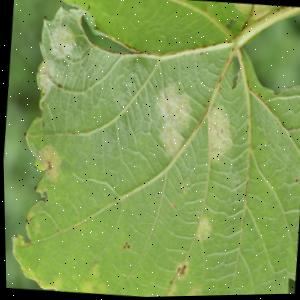Folha: (0, 0, 300, 300)
Fungo: (151, 80, 194, 132), (202, 102, 235, 166), (30, 140, 62, 184), (46, 22, 75, 58), (154, 126, 186, 158), (78, 260, 106, 295), (35, 61, 57, 92), (194, 215, 212, 242), (183, 284, 200, 297), (22, 207, 33, 226), (8, 229, 20, 246), (50, 274, 61, 291), (177, 264, 185, 279), (73, 220, 83, 231), (120, 239, 129, 249), (24, 212, 30, 224), (44, 160, 50, 170), (124, 243, 129, 249), (120, 243, 124, 249)
